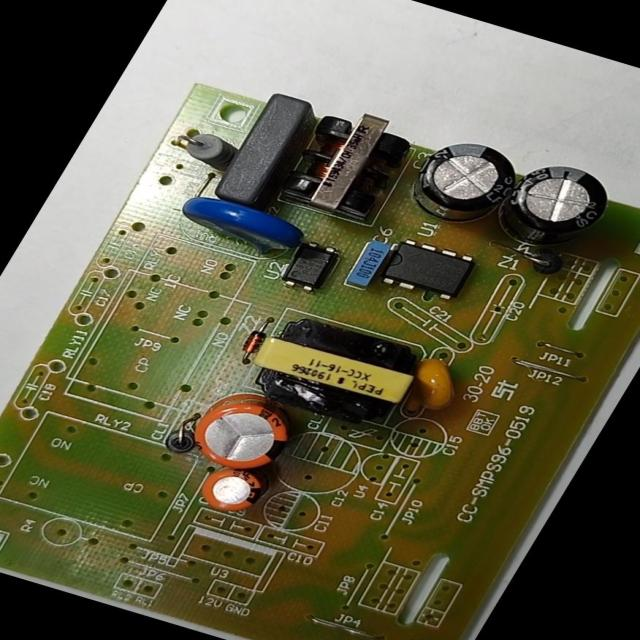Cap1: (170, 380, 312, 484)
Cap2: (186, 454, 278, 521)
Cap3: (396, 129, 534, 232)
Cap4: (483, 149, 635, 261)
MOSFET: (367, 231, 485, 307)
Mov: (163, 184, 312, 265)
Resistor: (160, 120, 245, 178)
Transformer: (232, 307, 436, 435), (266, 98, 432, 229)
